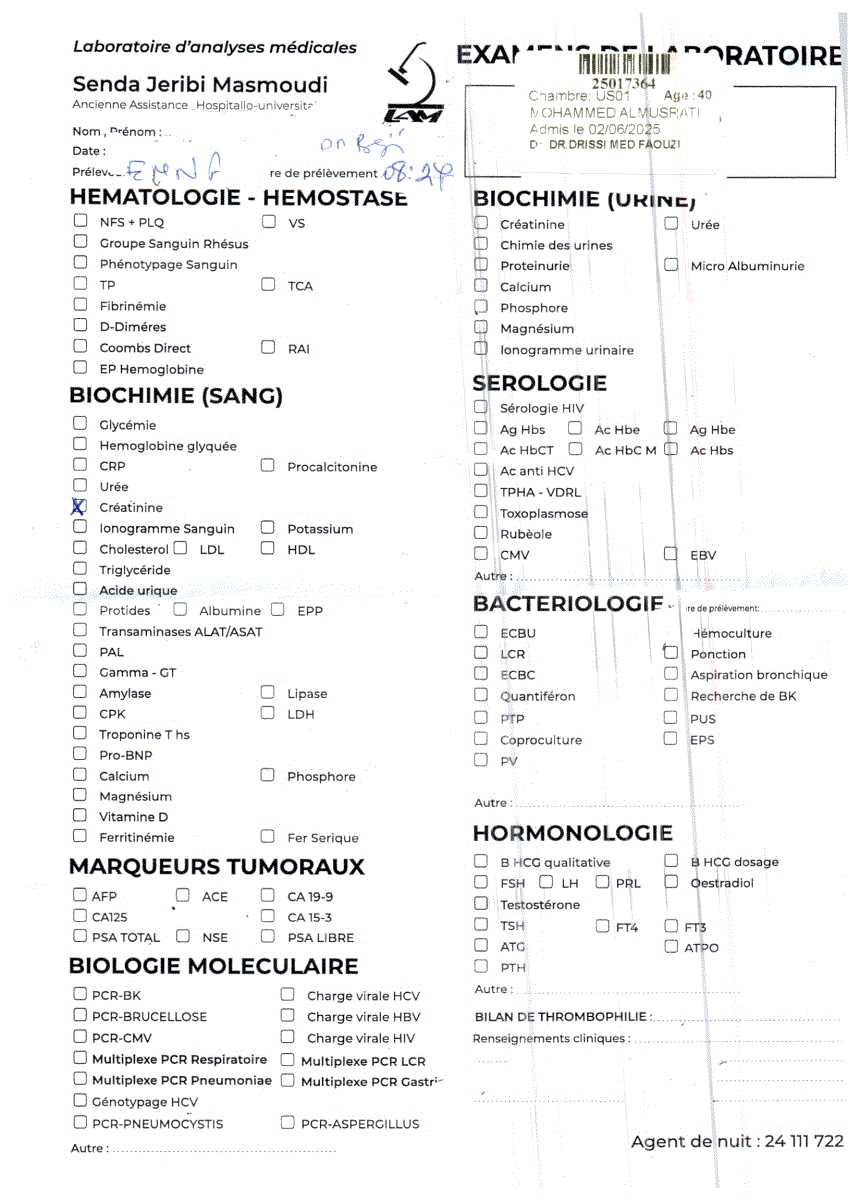zone_analyses: (69, 186, 849, 1174)
zone_date: (585, 123, 664, 136)
zone_patient: (527, 106, 706, 120)
zone_prescripteur: (524, 138, 698, 153)
